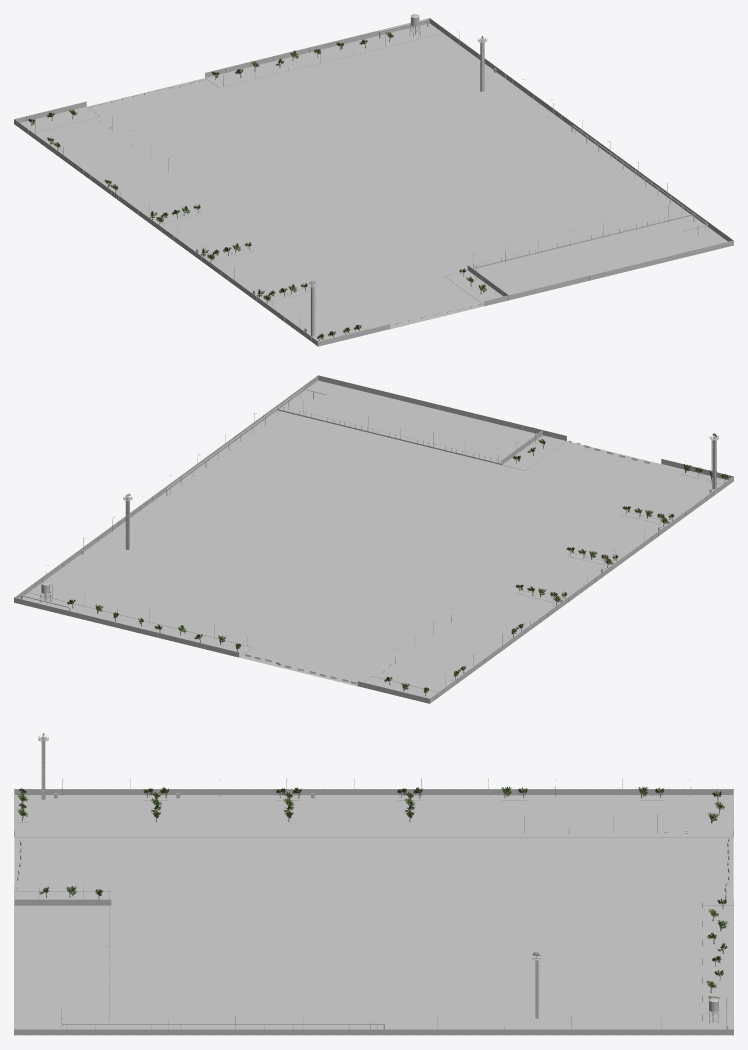
File: Landcape.fbx
The picture shows the model from 3 angles, top to bottom: view 1: azimuth 30°, elevation 25°; view 2: azimuth 150°, elevation 25°; view 3: azimuth 270°, elevation 25°; orthographic projection. The views are drawn at different scales.
Visible parts, largest first — view 1: landscape_big.001, walls_1; view 2: landscape_big.001, walls_1; view 3: landscape_big.001, walls_1, pipes_4, walls_2.
Boxes of the visible parts, box(x1,y1,x2,y2) form: landscape_big.001: box(20, 23, 727, 340); walls_1: box(14, 18, 733, 346); landscape_big.001: box(20, 380, 727, 698); walls_1: box(14, 375, 733, 703); landscape_big.001: box(14, 795, 733, 1029); walls_1: box(14, 788, 733, 1035); pipes_4: box(61, 1009, 384, 1029); walls_2: box(14, 899, 111, 905).
Bounding box in the file's own units: 8936 × 1140 × 11316.
